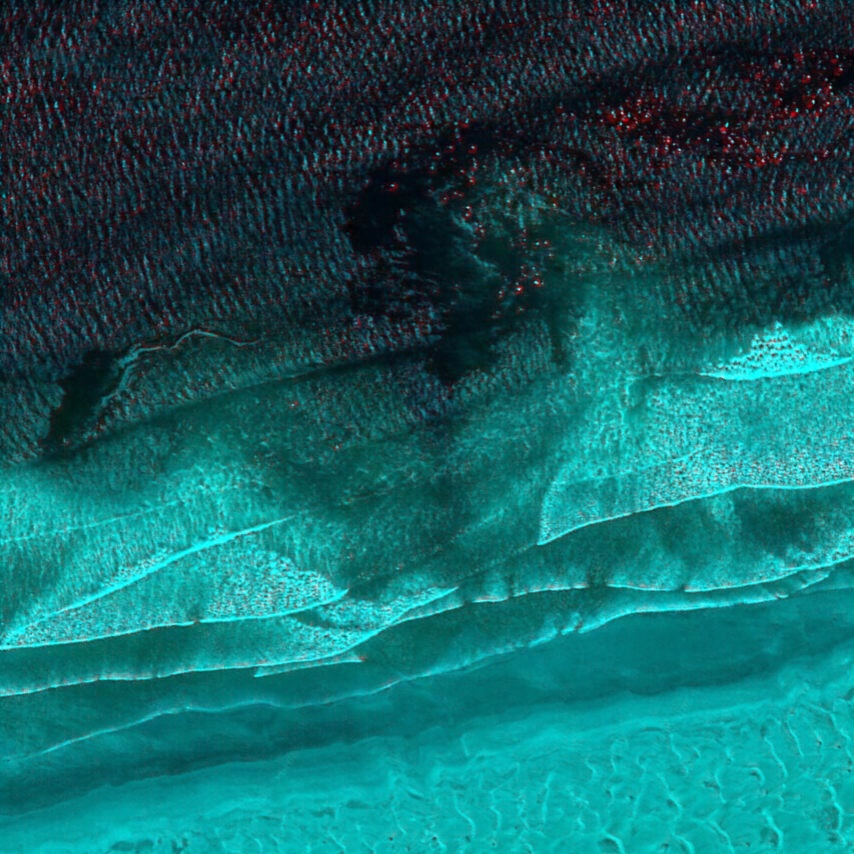rip_current: (206, 290, 619, 672)
